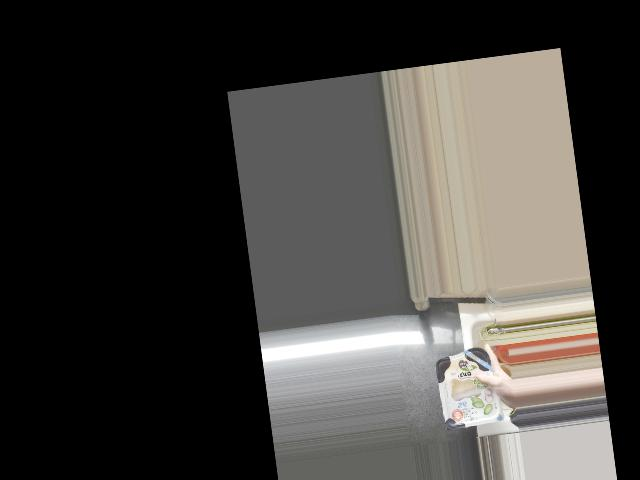cheese: (434, 345, 503, 427)
